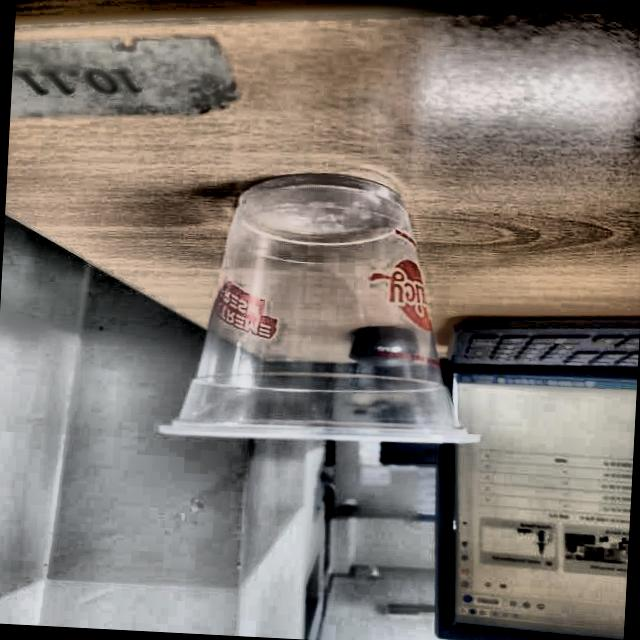plastic cup: (154, 166, 493, 452)
